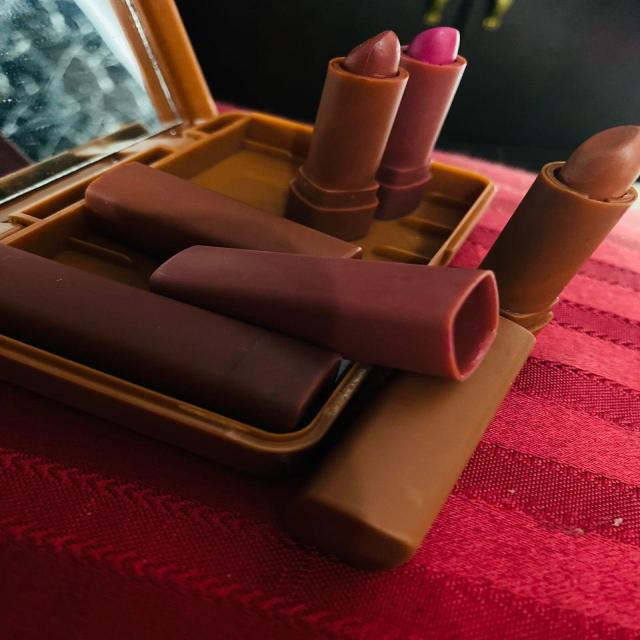lip stick: (479, 98, 640, 332), (286, 26, 414, 222), (394, 10, 494, 202)
